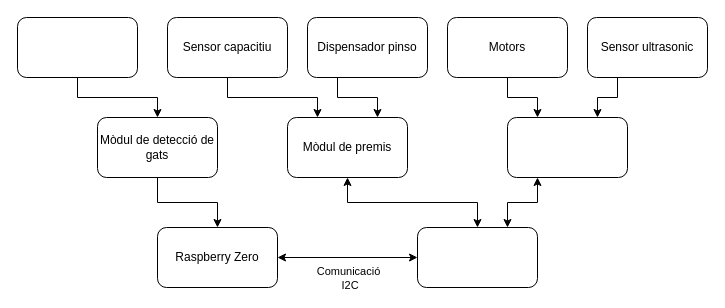
This 725x308 diagram has some shape labels left out. Each missing label, with the centre of its shape:
Arduino: pixel 477 257
Camera: pixel 77 47
Mòdul de navegació: pixel 567 147
